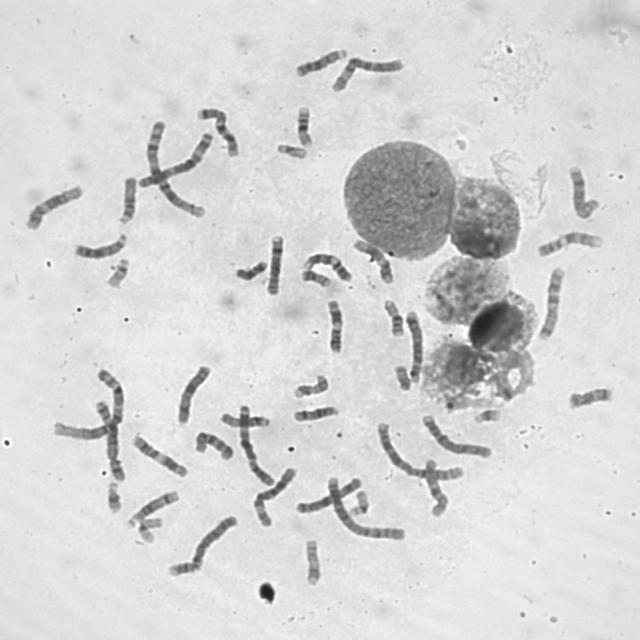A1: (143, 119, 209, 221), (51, 366, 128, 442)
A2: (325, 475, 410, 544), (375, 419, 468, 482)
A3: (135, 130, 217, 190), (235, 402, 276, 488)
B4: (164, 512, 240, 578), (420, 413, 494, 461)
B5: (92, 398, 127, 484), (403, 309, 425, 385)
C10: (422, 457, 450, 521), (192, 429, 236, 463)
C11: (130, 434, 190, 479), (324, 295, 347, 359)
C12: (24, 179, 89, 232), (352, 237, 396, 288)
C6: (328, 55, 407, 97), (251, 465, 301, 529)
C7: (193, 105, 243, 161), (533, 266, 568, 344)
C8: (563, 165, 602, 222), (265, 232, 287, 297)
C9: (534, 230, 606, 260), (301, 251, 355, 283)
D13: (292, 46, 352, 80), (70, 232, 130, 261)
D14: (124, 488, 180, 532), (291, 404, 343, 425)
D15: (115, 174, 139, 226), (218, 410, 273, 432)
E16: (382, 296, 407, 339), (294, 105, 316, 152)
E17: (302, 537, 325, 590), (290, 372, 330, 400)
E18: (560, 381, 622, 414), (231, 258, 272, 284)
F19: (136, 516, 164, 546), (347, 488, 372, 518)
F20: (298, 268, 336, 288), (392, 364, 414, 394)
G21: (470, 404, 506, 427), (104, 479, 122, 516)
G22: (104, 255, 135, 288), (272, 142, 312, 162)
X: (292, 475, 365, 516), (172, 362, 215, 430)
